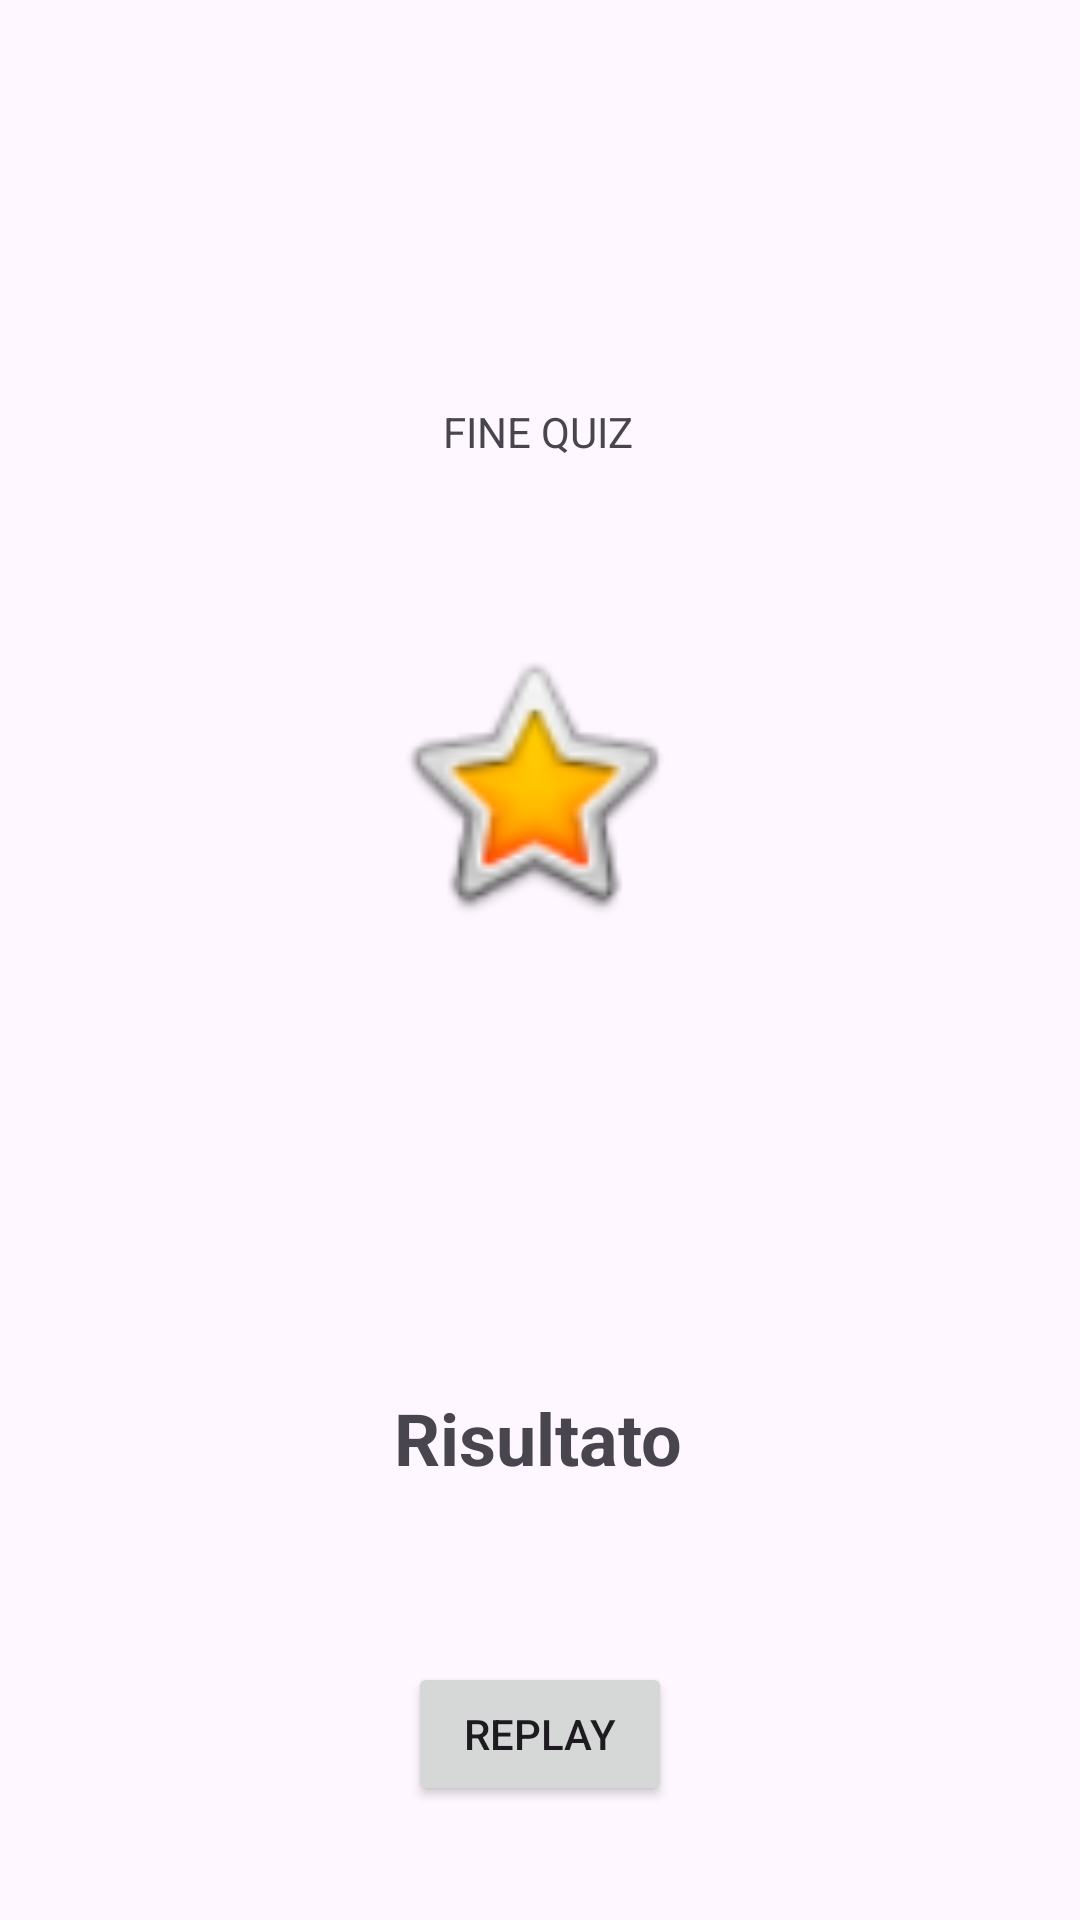

Screen size 1080x1920. Icon name, then its center in pixels as (x=x, y=y):
star on: (x=535, y=787)
